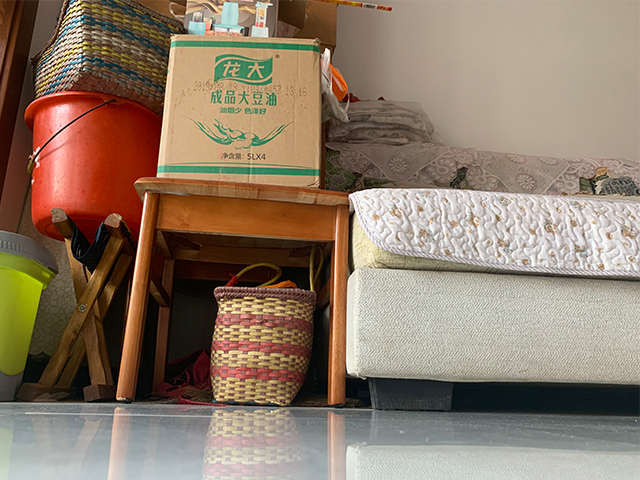sofa: (321, 142, 640, 414)
stool: (102, 176, 353, 408), (13, 207, 138, 404)
